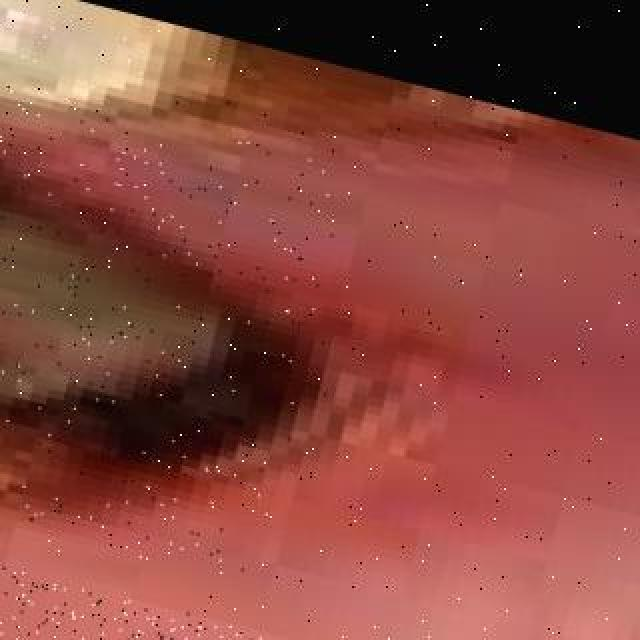cavities: (0, 146, 344, 550), (0, 620, 174, 640)
